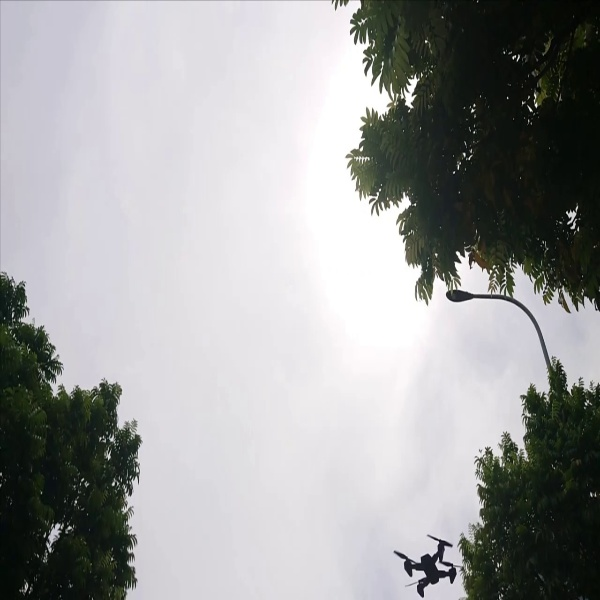drone: (384, 527, 465, 599)
